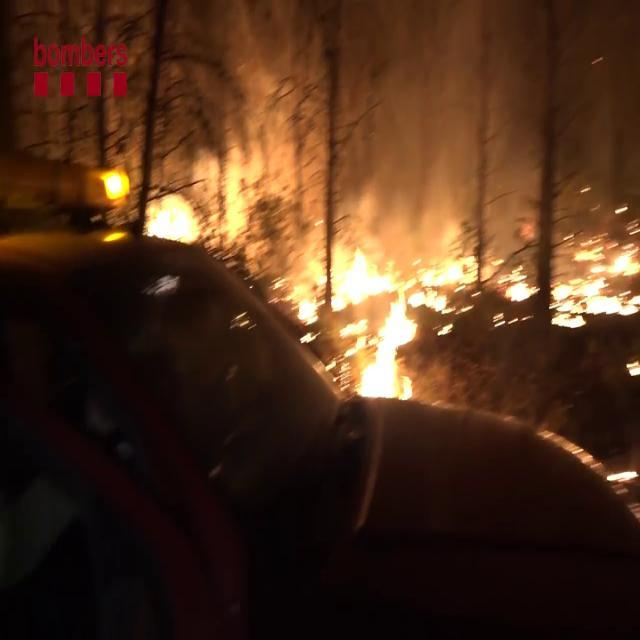Fire: (286, 217, 480, 399), (141, 138, 288, 253), (550, 236, 640, 324), (142, 186, 202, 247), (499, 262, 536, 306), (96, 161, 132, 206)
Smoke: (308, 1, 640, 234)
